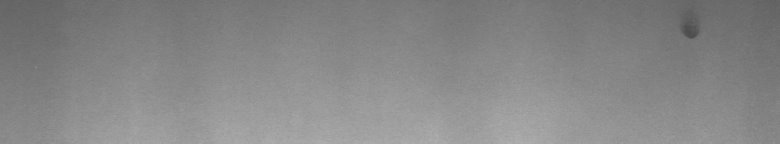fi: (680, 24, 700, 44)
